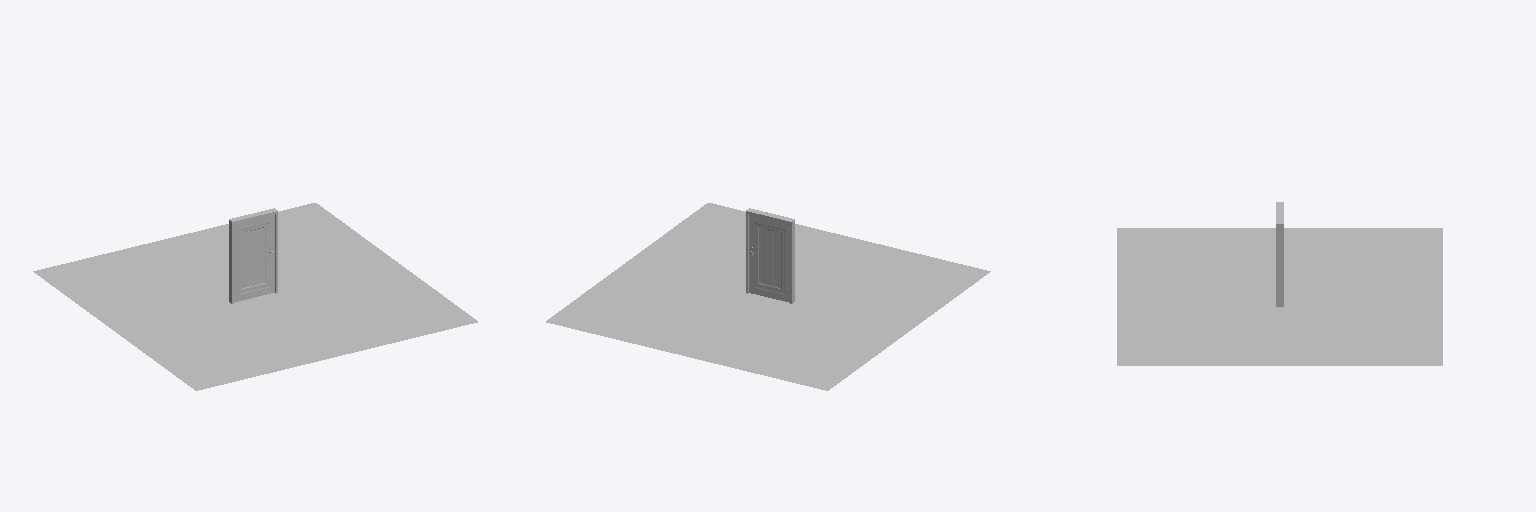
Rendered from Door.obj.
3 views of the same model, side by side, from view 1: azimuth 30°, elevation 25°; view 2: azimuth 150°, elevation 25°; view 3: azimuth 270°, elevation 25° (orthographic).
Parts seen in each view (by area): view 1: 메시; view 2: 메시; view 3: 메시.
Boxes of the visible parts, box(x1,y1,x2,y2) form: 메시: box(33, 203, 477, 390); 메시: box(546, 203, 990, 390); 메시: box(1117, 202, 1442, 365).
Bounding box in the file's own units: 44.32 × 12.42 × 44.32.